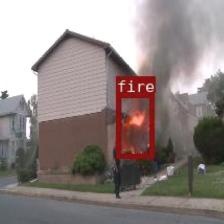fire: (116, 92, 154, 158)
